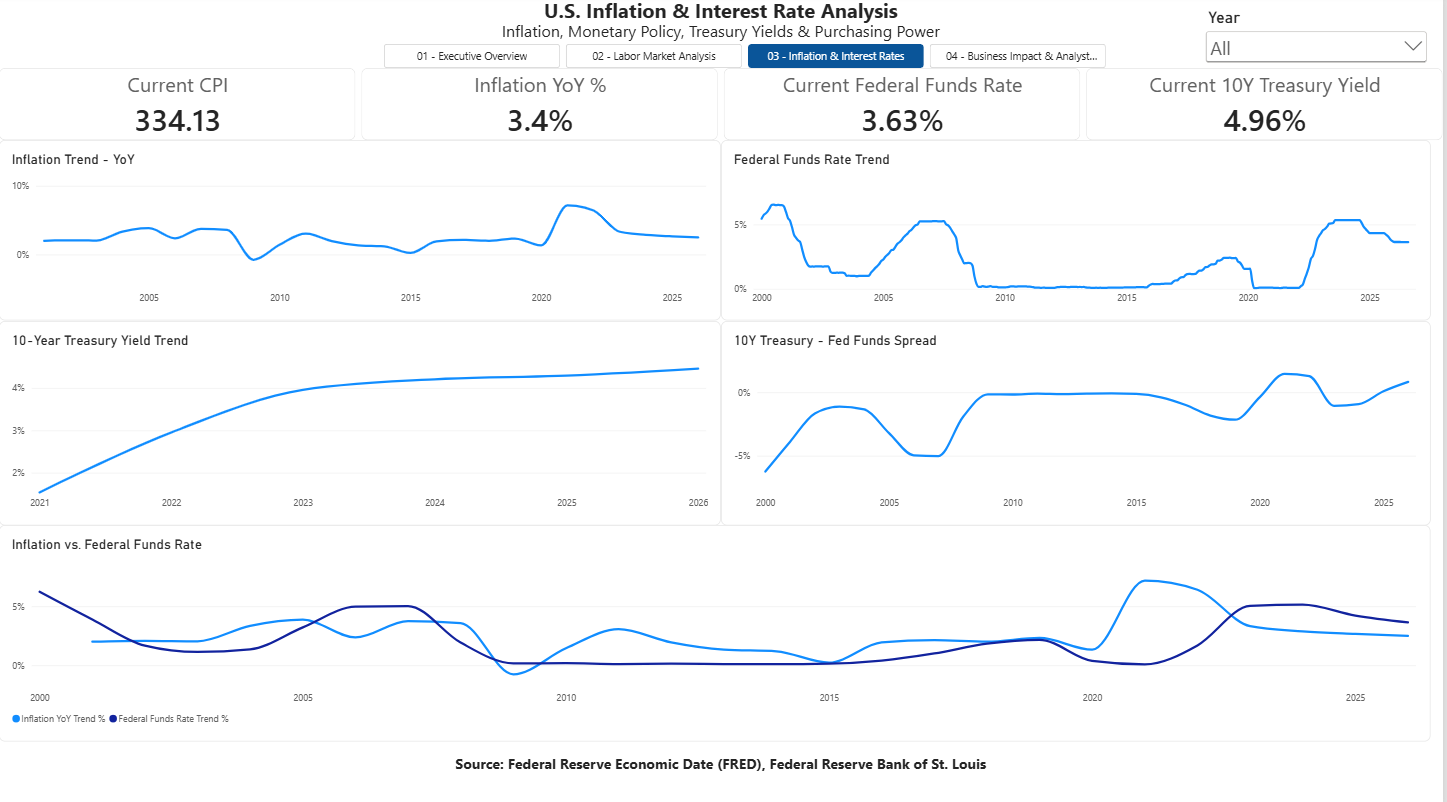

Layout of this report page (visuals, bound fields, positions):
{"tool":"powerbi","page":{"name":"03 - Inflation & Interest Rates","canvas":[1920,1080],"ordinal":2},"visuals":[{"type":"textbox","box":[16,0,1888,48],"z":0},{"type":"textbox","box":[0,32,1920,32],"z":1},{"type":"slicer","fields":{"Values":["Dim_Month.Year"]},"box":[1600,16,304,80],"z":2},{"type":"cardVisual","fields":{"Data":["Measurers.Current CPI","Measurers.Inflation YoY %","Measurers.Current Federal Funds Rate","Measurers.Current 10Y Treasury Yield"]},"box":[0,96,1920,96],"z":3},{"type":"lineChart","title":"Inflation Trend - YoY","fields":{"Category":["Dim_Month.Month Start.Variation.Date Hierarchy.Year","Dim_Month.Month Start.Variation.Date Hierarchy.Quarter","Dim_Month.Month Start.Variation.Date Hierarchy.Month","Dim_Month.Month Start.Variation.Date Hierarchy.Day"],"Y":["Measurers.Inflation YoY Trend %"]},"box":[0,192,960,240],"z":4},{"type":"lineChart","title":"Federal Funds Rate Trend","fields":{"Y":["Measurers.Federal Funds Rate Trend %"],"Category":["Dim_Month.Month Start.Variation.Date Hierarchy.Year","Dim_Month.Month Start.Variation.Date Hierarchy.Quarter","Dim_Month.Month Start.Variation.Date Hierarchy.Month","Dim_Month.Month Start.Variation.Date Hierarchy.Day"]},"box":[960,192,944,240],"z":5},{"type":"lineChart","title":"10-Year Treasury Yield Trend","fields":{"Category":["Dim_Month.Month Start.Variation.Date Hierarchy.Year","Dim_Month.Month Start.Variation.Date Hierarchy.Quarter","Dim_Month.Month Start.Variation.Date Hierarchy.Month","Dim_Month.Month Start.Variation.Date Hierarchy.Day"],"Y":["Measurers.10Y Treasury Yield Trend %"]},"box":[0,432,960,272],"z":6},{"type":"lineChart","title":"10Y Treasury - Fed Funds Spread","fields":{"Category":["Dim_Month.Month Start.Variation.Date Hierarchy.Year","Dim_Month.Month Start.Variation.Date Hierarchy.Quarter","Dim_Month.Month Start.Variation.Date Hierarchy.Month","Dim_Month.Month Start.Variation.Date Hierarchy.Day"],"Y":["Measurers.10Y - Fed Funds Spread Trend %"]},"box":[960,432,944,272],"z":7},{"type":"lineChart","title":"Inflation vs. Federal Funds Rate","fields":{"Category":["Dim_Month.Month Start.Variation.Date Hierarchy.Year","Dim_Month.Month Start.Variation.Date Hierarchy.Quarter","Dim_Month.Month Start.Variation.Date Hierarchy.Month","Dim_Month.Month Start.Variation.Date Hierarchy.Day"],"Y":["Measurers.Inflation YoY Trend %","Measurers.Federal Funds Rate Trend %"]},"box":[0,704,1904,288],"z":8},{"type":"pageNavigator","box":[512,64,960,32],"z":9},{"type":"textbox","box":[16,1008,1888,64],"z":10}]}

Visuals, with their boxes in screenshot pixels (x1, y1, x2, y2), scaled from the page's 1920x1080 canvas onto the 1447x802 screenshot:
textbox: <bbox>12, 0, 1435, 36</bbox>
textbox: <bbox>0, 24, 1446, 48</bbox>
slicer - Dim_Month.Year: <bbox>1206, 12, 1435, 71</bbox>
cardVisual - Measurers.Current CPI x Measurers.Inflation YoY %: <bbox>0, 71, 1446, 143</bbox>
"Inflation Trend - YoY" lineChart: <bbox>0, 143, 724, 321</bbox>
"Federal Funds Rate Trend" lineChart: <bbox>724, 143, 1435, 321</bbox>
"10-Year Treasury Yield Trend" lineChart: <bbox>0, 321, 724, 523</bbox>
"10Y Treasury - Fed Funds Spread" lineChart: <bbox>724, 321, 1435, 523</bbox>
"Inflation vs. Federal Funds Rate" lineChart: <bbox>0, 523, 1435, 737</bbox>
pageNavigator: <bbox>386, 48, 1109, 71</bbox>
textbox: <bbox>12, 749, 1435, 796</bbox>
